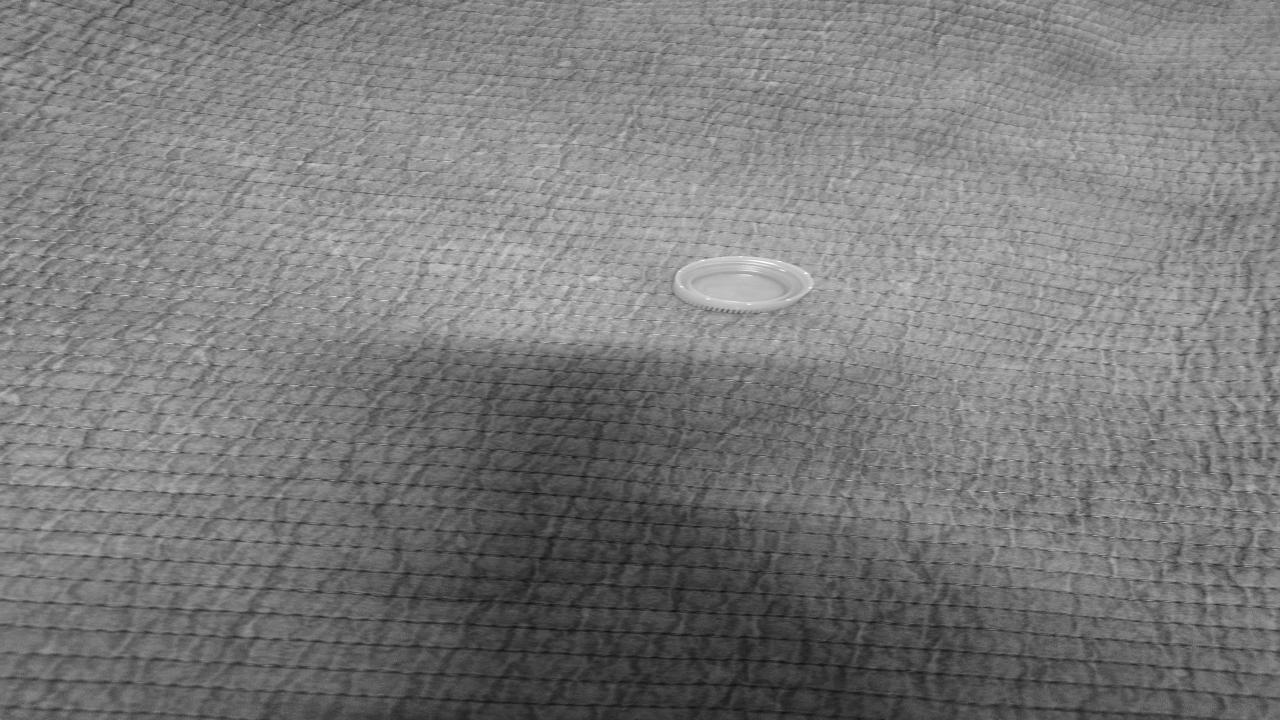bottle_cap: (667, 253, 822, 314)
